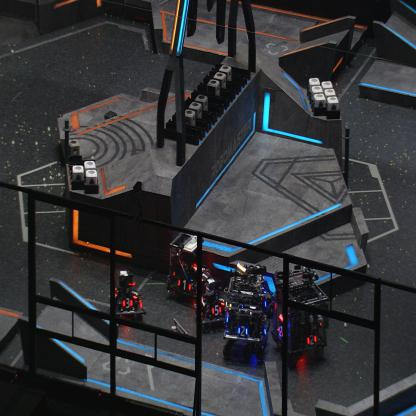car: (269, 264, 330, 367), (223, 260, 272, 362), (165, 230, 212, 304), (107, 267, 146, 322), (193, 276, 229, 331)
